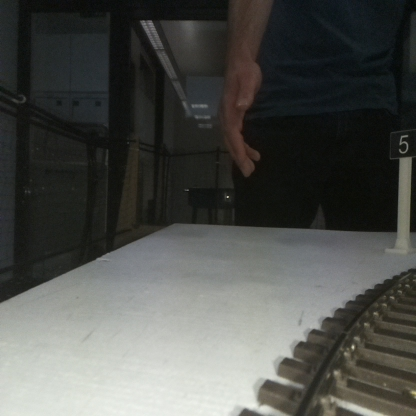black-info-5: (390, 131, 416, 251)
